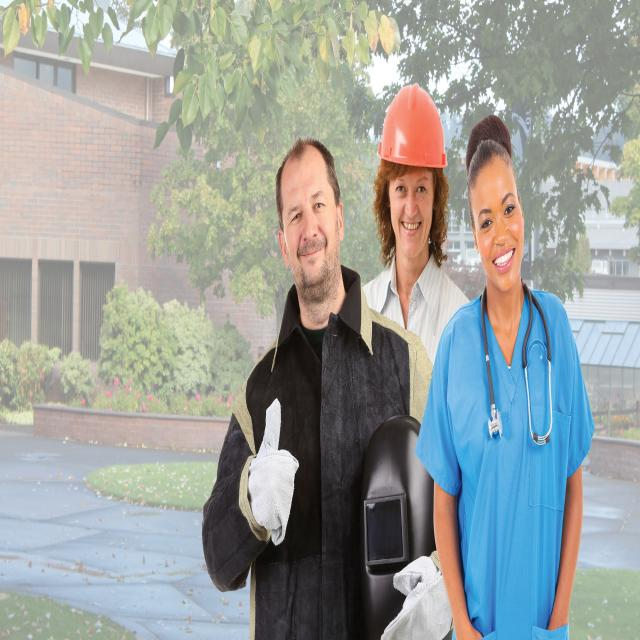body: (199, 133, 436, 640), (415, 104, 598, 639), (362, 84, 471, 366)
